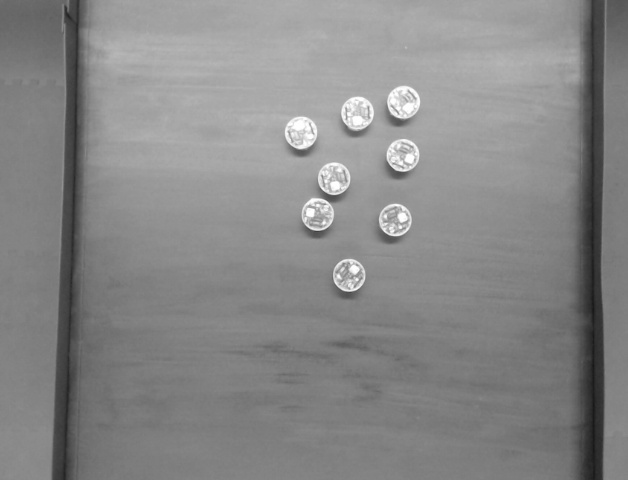epuck_2: (275, 108, 325, 155), (334, 89, 381, 136), (371, 198, 418, 244), (381, 137, 428, 182), (294, 194, 342, 238), (328, 255, 371, 297), (382, 81, 421, 125), (317, 157, 357, 198)
